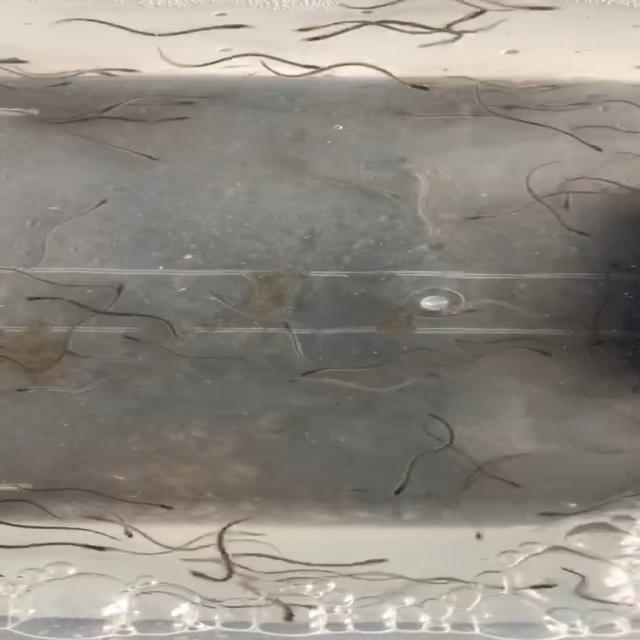active_glass_eel: (292, 601, 364, 617), (388, 151, 434, 176), (176, 566, 224, 588), (478, 96, 534, 114), (121, 148, 171, 168), (68, 192, 117, 212), (87, 96, 138, 115), (504, 0, 570, 14), (24, 290, 88, 304), (373, 182, 410, 206), (287, 362, 350, 376), (452, 209, 507, 225), (381, 103, 429, 121), (304, 27, 348, 46), (346, 552, 398, 568), (100, 280, 134, 304), (112, 518, 146, 542), (146, 114, 204, 128), (1, 383, 51, 399), (272, 316, 308, 338), (522, 581, 571, 597), (518, 342, 557, 362), (137, 497, 189, 512), (557, 220, 595, 240), (114, 331, 156, 349), (443, 303, 492, 318), (199, 289, 240, 306), (292, 57, 334, 73), (455, 5, 492, 23), (573, 137, 607, 156), (554, 190, 577, 218), (66, 541, 112, 555), (289, 18, 330, 33), (155, 96, 204, 108), (401, 77, 433, 95), (216, 21, 256, 35), (51, 346, 91, 360), (390, 474, 418, 494), (105, 61, 142, 76), (84, 68, 125, 80), (37, 80, 74, 91), (276, 606, 296, 626), (0, 55, 29, 65)
